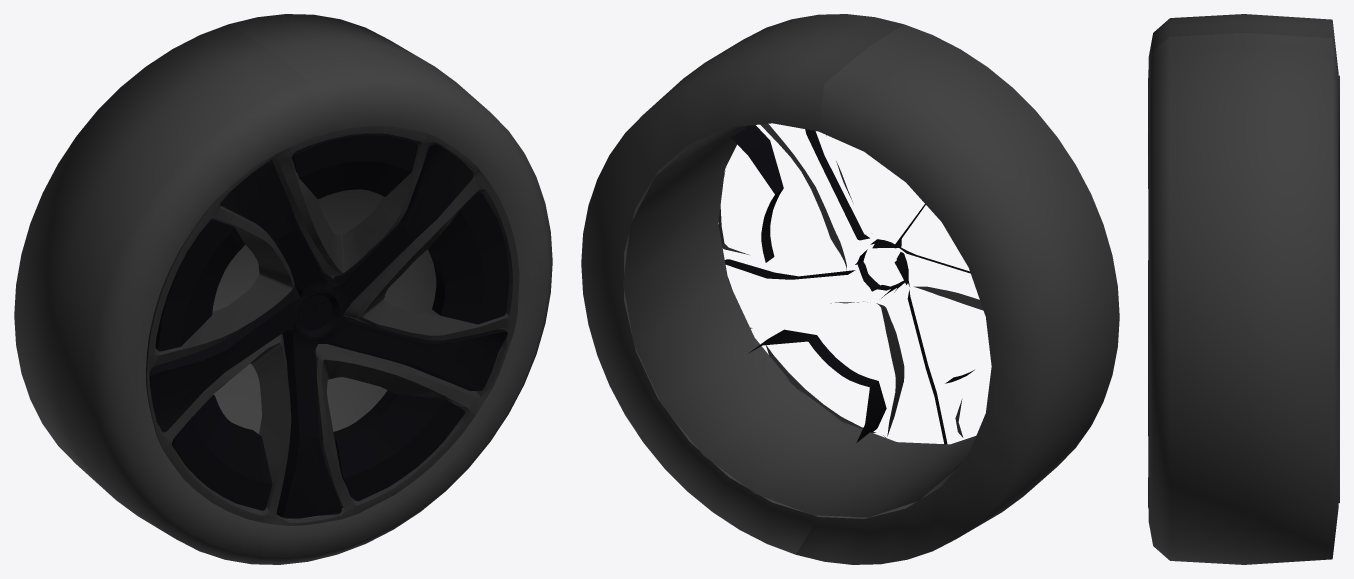
Rendered from Wheel_Riptide.glb.
3 views of the same model, side by side, from view 1: azimuth 30°, elevation 25°; view 2: azimuth 150°, elevation 25°; view 3: azimuth 270°, elevation 25° (orthographic). The views are drawn at different scales.
Visible parts, largest first — view 1: Wheel_Riptide2; view 2: Wheel_Riptide2; view 3: Wheel_Riptide2.
Boxes of the visible parts, x1,y1,x2,y2 form: Wheel_Riptide2: [14, 14, 552, 564]; Wheel_Riptide2: [581, 14, 1119, 564]; Wheel_Riptide2: [1148, 14, 1339, 564].
Size of the model in its own units: 0.7408 by 0.7394 by 0.2581.
2 materials, 1 textured.
